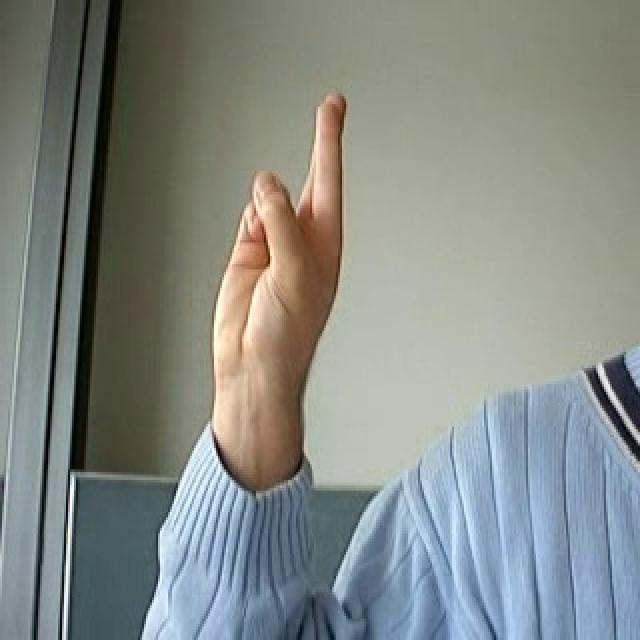R: (196, 79, 366, 407)
